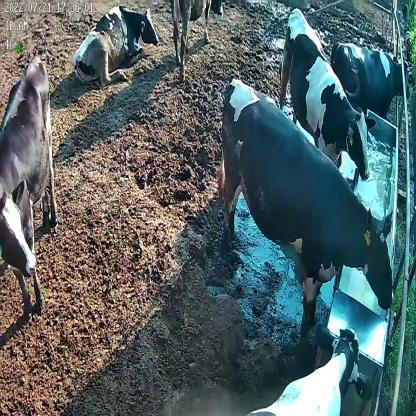cow: (218, 78, 395, 329), (276, 7, 376, 187), (2, 50, 58, 319), (73, 4, 159, 90), (331, 40, 412, 116)
